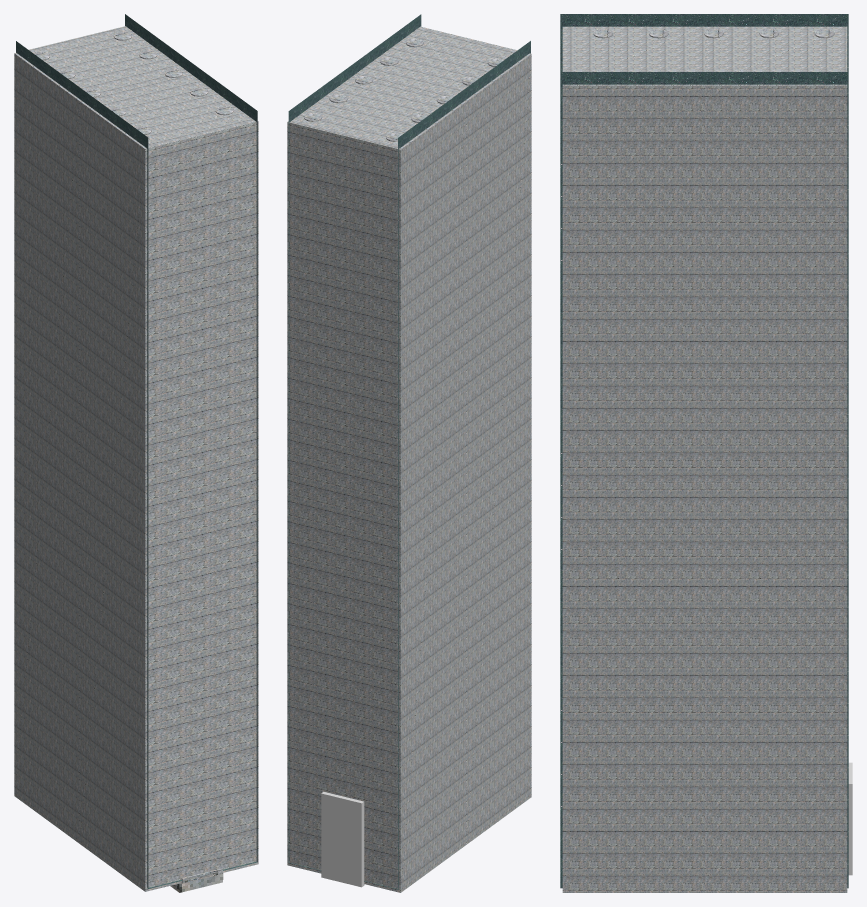
File: mausoleumInside.fbx
The picture shows the model from 3 angles, left to right: view 1: azimuth 30°, elevation 25°; view 2: azimuth 150°, elevation 25°; view 3: azimuth 270°, elevation 25°; orthographic projection. The views are drawn at different scales.
Parts seen in each view (by area): view 1: walls, ceiling, water, columns; view 2: walls, ceiling, water, door, columns; view 3: walls, ceiling, water, columns.
Part boxes in pixels (bbox=[...]): walls: bbox=[14, 53, 258, 891]; ceiling: bbox=[14, 26, 258, 148]; water: bbox=[16, 14, 257, 888]; columns: bbox=[34, 32, 233, 134]; walls: bbox=[287, 54, 531, 892]; ceiling: bbox=[287, 26, 531, 149]; water: bbox=[288, 14, 530, 889]; door: bbox=[321, 792, 364, 887]; columns: bbox=[304, 38, 503, 141]; walls: bbox=[562, 85, 847, 892]; ceiling: bbox=[562, 26, 847, 85]; water: bbox=[560, 14, 848, 888]; columns: bbox=[593, 29, 834, 38].
Size of what is drawn, in the model's own units: 560 by 3606 by 1150.
